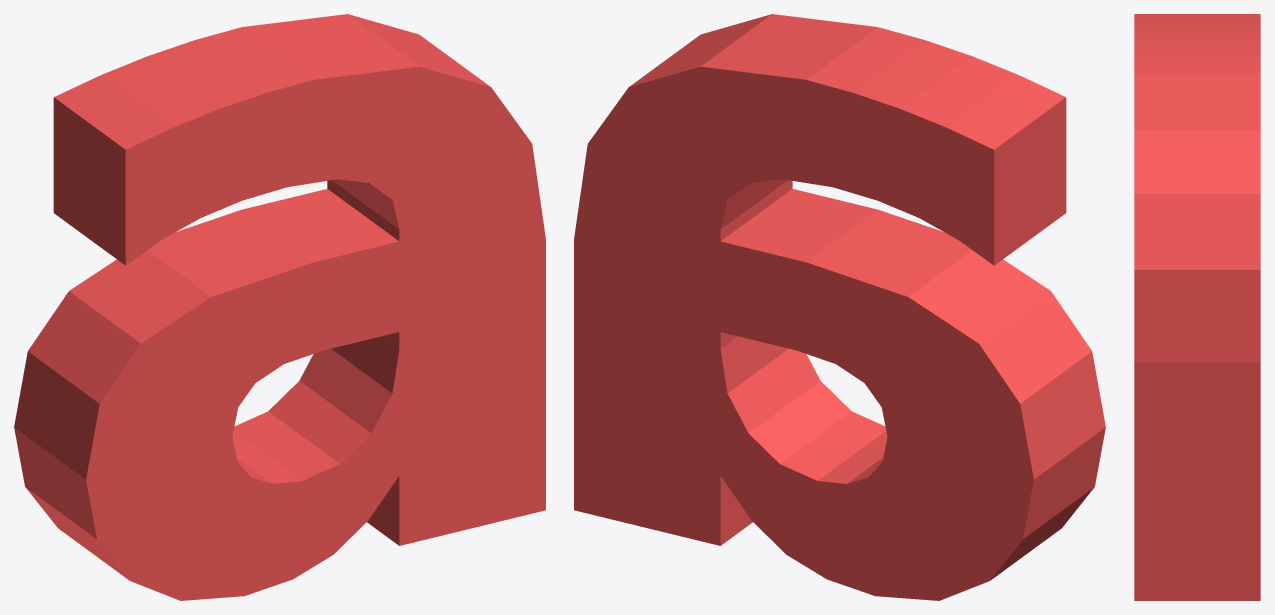
Rendered from huruf_kecil_a.glb.
3 views of the same model, side by side, from view 1: azimuth 30°, elevation 25°; view 2: azimuth 150°, elevation 25°; view 3: azimuth 270°, elevation 25° (orthographic). The views are drawn at different scales.
Parts seen in each view (by area): view 1: geometry_0; view 2: geometry_0; view 3: geometry_0.
Part boxes in pixels (bbox=[...]): geometry_0: bbox=[14, 14, 545, 600]; geometry_0: bbox=[574, 14, 1105, 600]; geometry_0: bbox=[1134, 14, 1260, 600].
Size of the model in its own units: 5.53 by 5.74 by 1.5.
